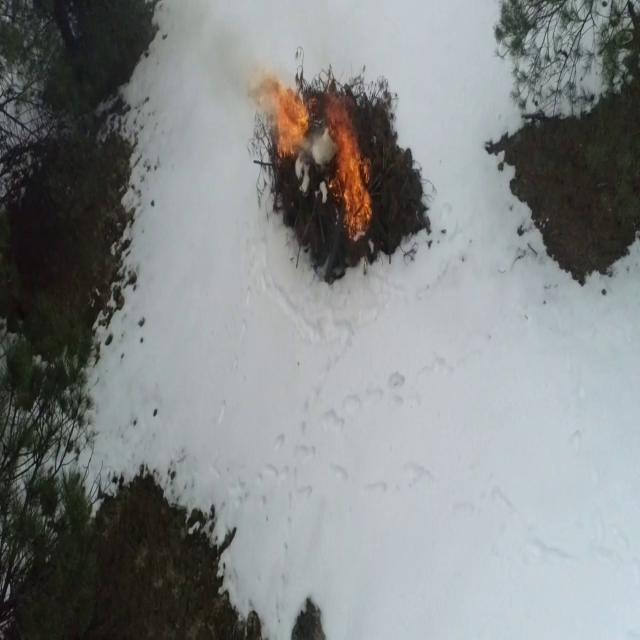fire: (334, 120, 372, 234), (261, 78, 305, 152)
